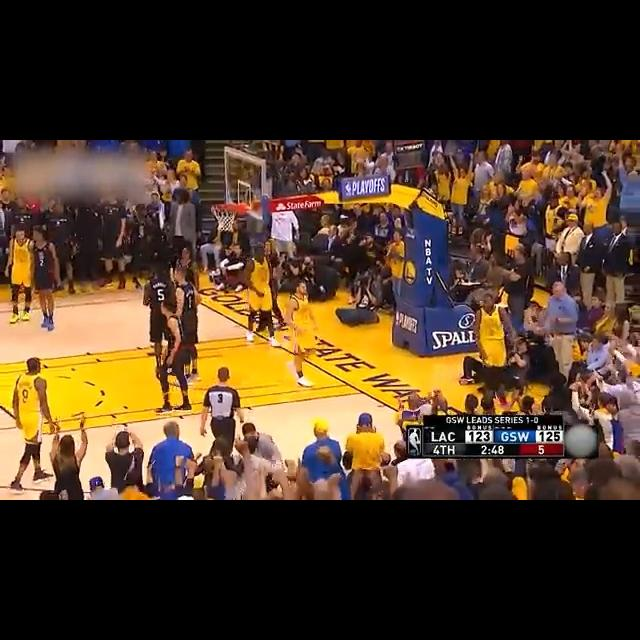hoop: (211, 199, 239, 233)
